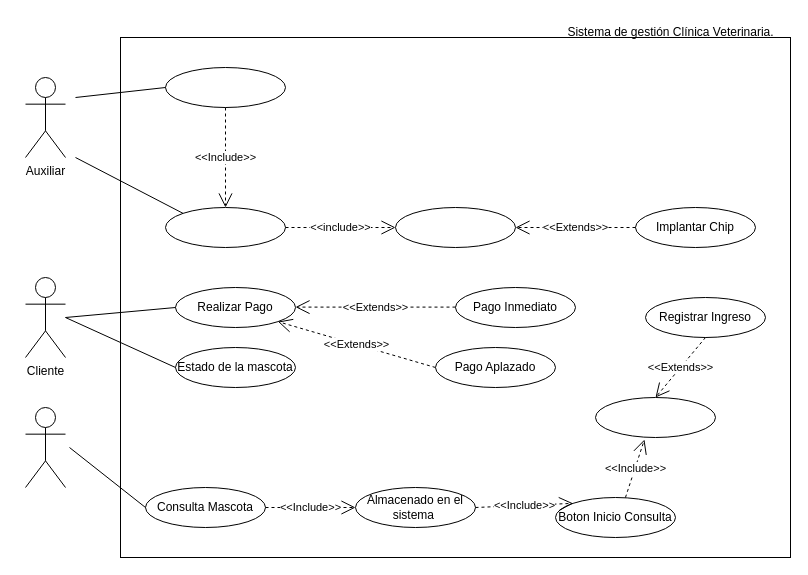
This 808x575 diagram has some shape labels left out. The shapes that lost their labels are listed below. From the top down, each one's box as (x1, y1, x2, y2) in pixels, then its label:
(164, 66, 286, 108): Dar de Alta Cliente
(164, 206, 286, 248): Dar de Alta a la Mascota
(394, 206, 516, 248): Comprobacion Chip
(594, 396, 716, 438): Boton Final Consulta
(24, 406, 66, 488): Veterinario
